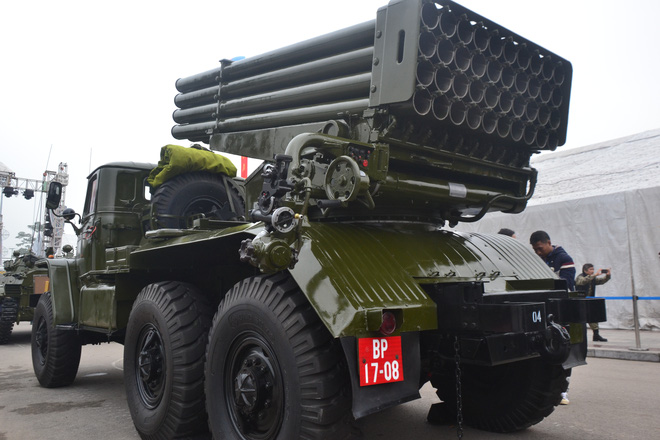plate: (354, 334, 405, 386)
